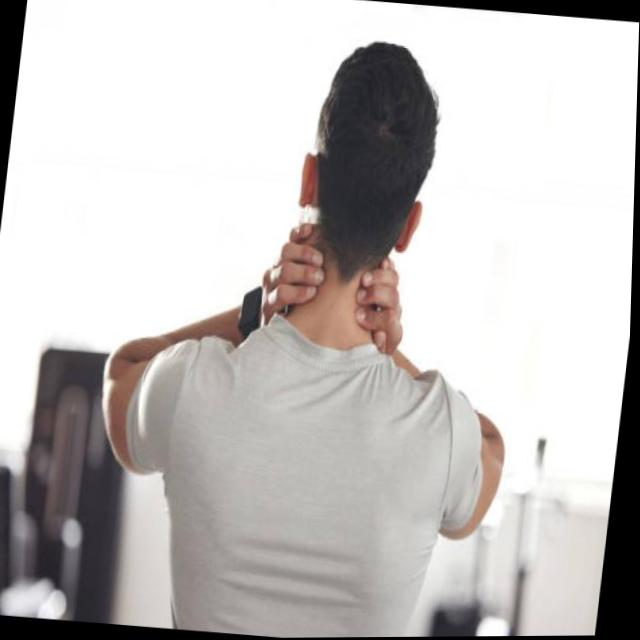no helmet: (293, 39, 450, 295)
